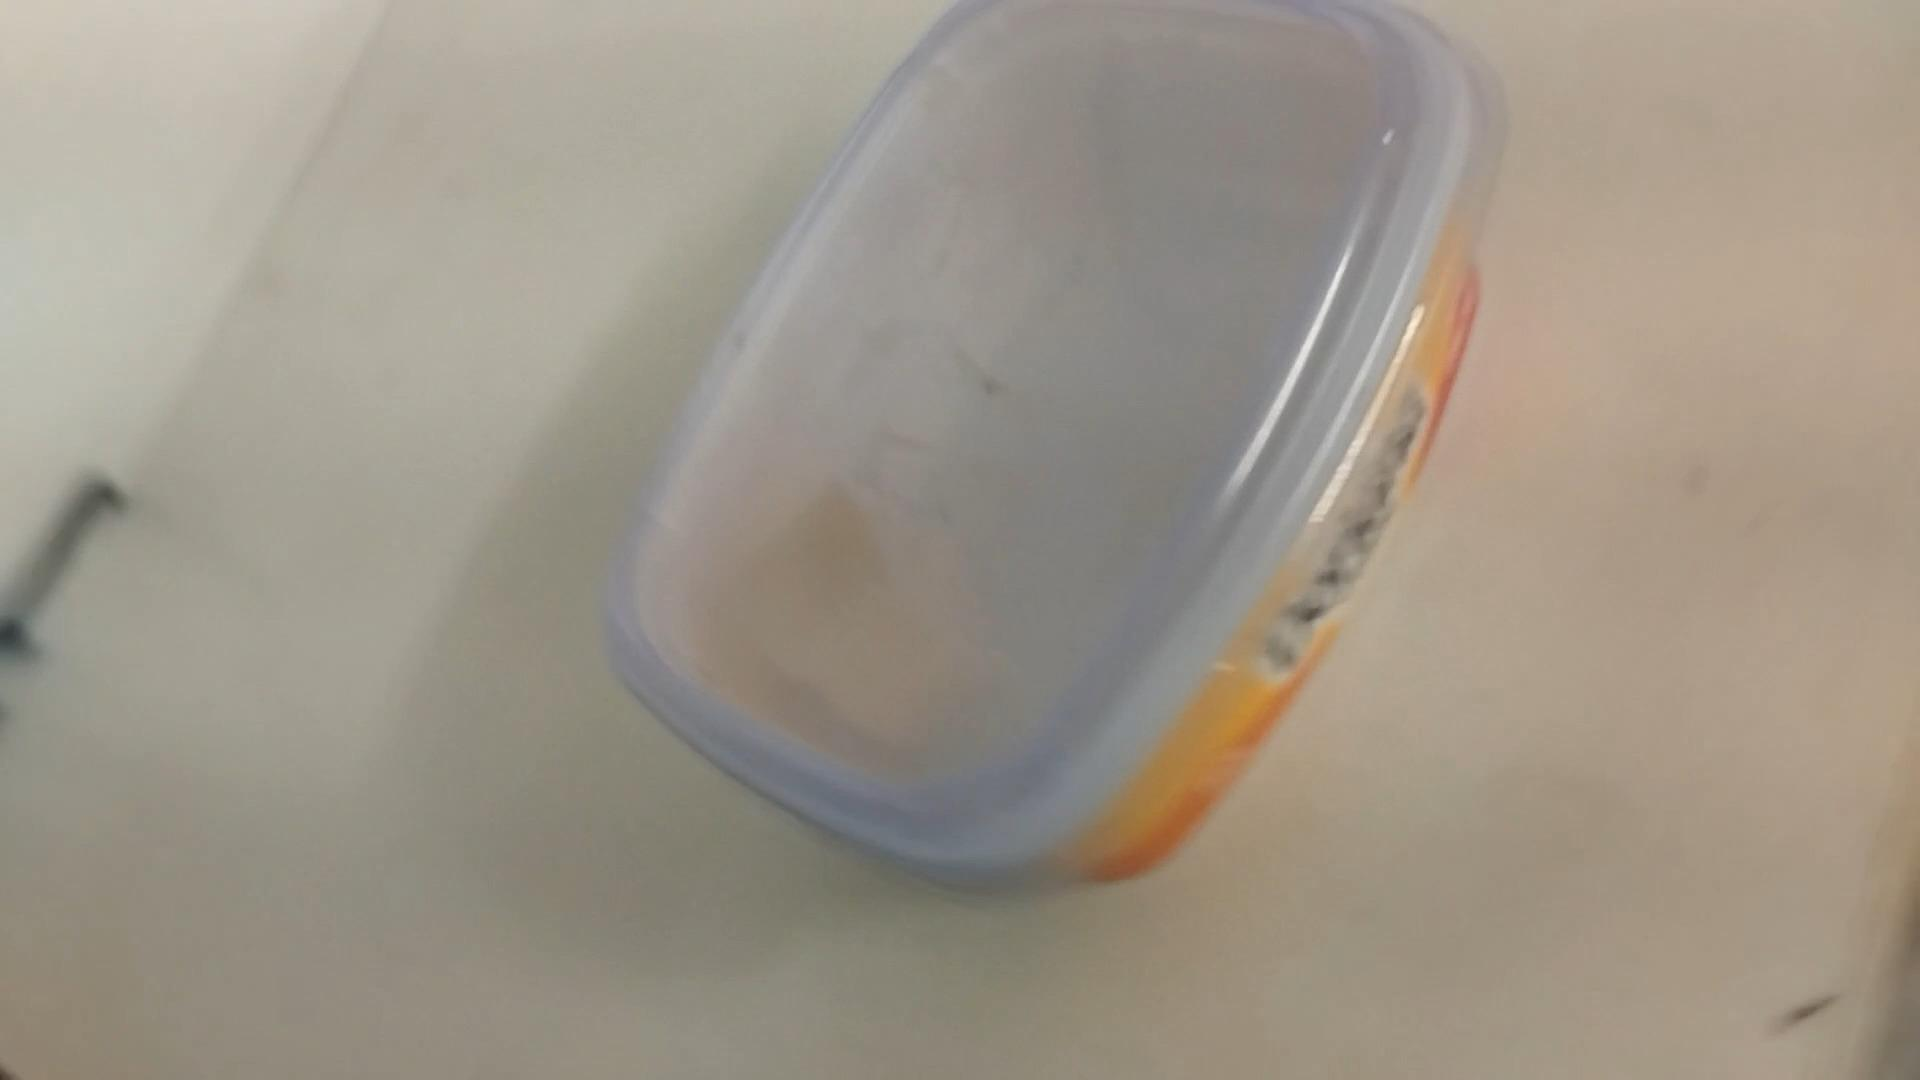butter: (604, 11, 1489, 902)
